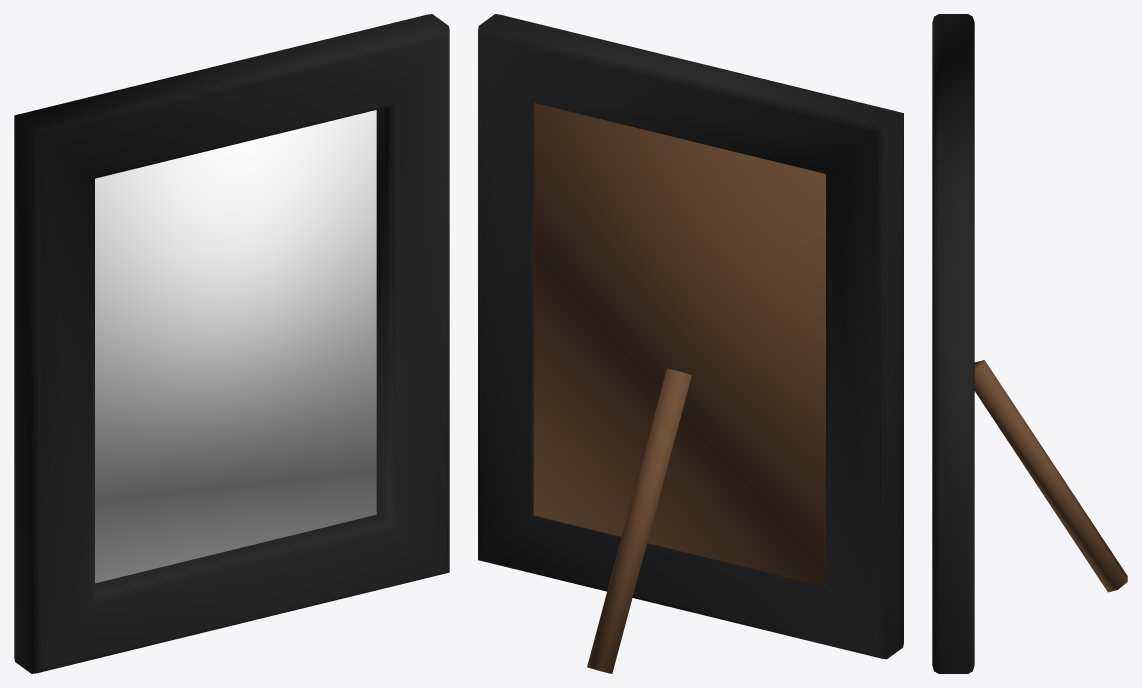
The model's file is living-photoframe.glb.
3 views of the same model, side by side, from view 1: azimuth 30°, elevation 25°; view 2: azimuth 150°, elevation 25°; view 3: azimuth 270°, elevation 25° (orthographic). The views are drawn at different scales.
Parts seen in each view (by area): view 1: PhotoFrame__Frame, PhotoFrame__Photo; view 2: PhotoFrame__Back, PhotoFrame__Frame; view 3: PhotoFrame__Frame, PhotoFrame__Back.
Part boxes in pixels (box(x1,y1,x2,y2)): PhotoFrame__Frame: box(14, 14, 449, 673); PhotoFrame__Photo: box(95, 110, 376, 583); PhotoFrame__Back: box(533, 103, 825, 673); PhotoFrame__Frame: box(478, 14, 903, 659); PhotoFrame__Frame: box(932, 14, 974, 673); PhotoFrame__Back: box(974, 360, 1127, 592).
Size of the model in its own units: 16 by 20.22 by 7.37.
